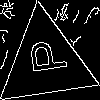P: (21, 36, 68, 77)
